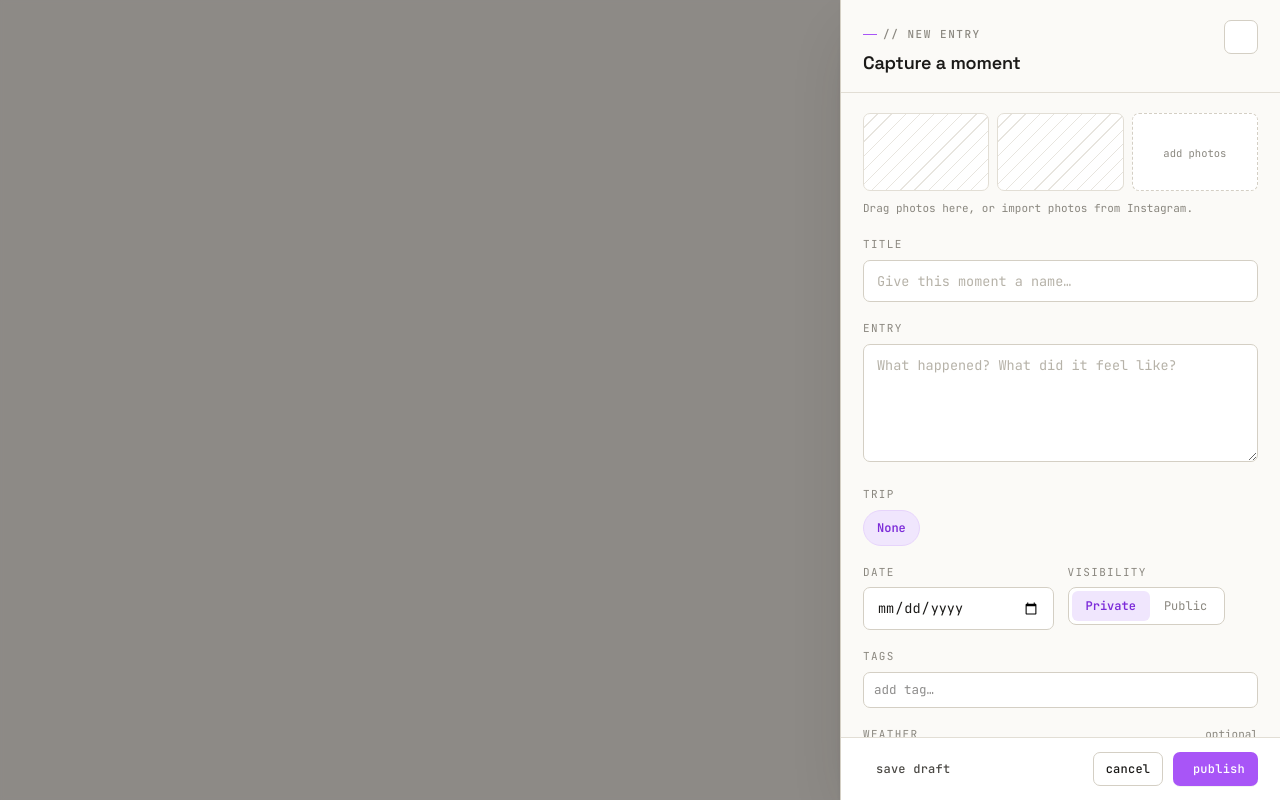
Test: AppNewEntry › removes a tag when its remove button is clicked
Type "iceland" into the field with placeholder "add tag…" at point(1060, 690), box [874, 681, 1247, 700]
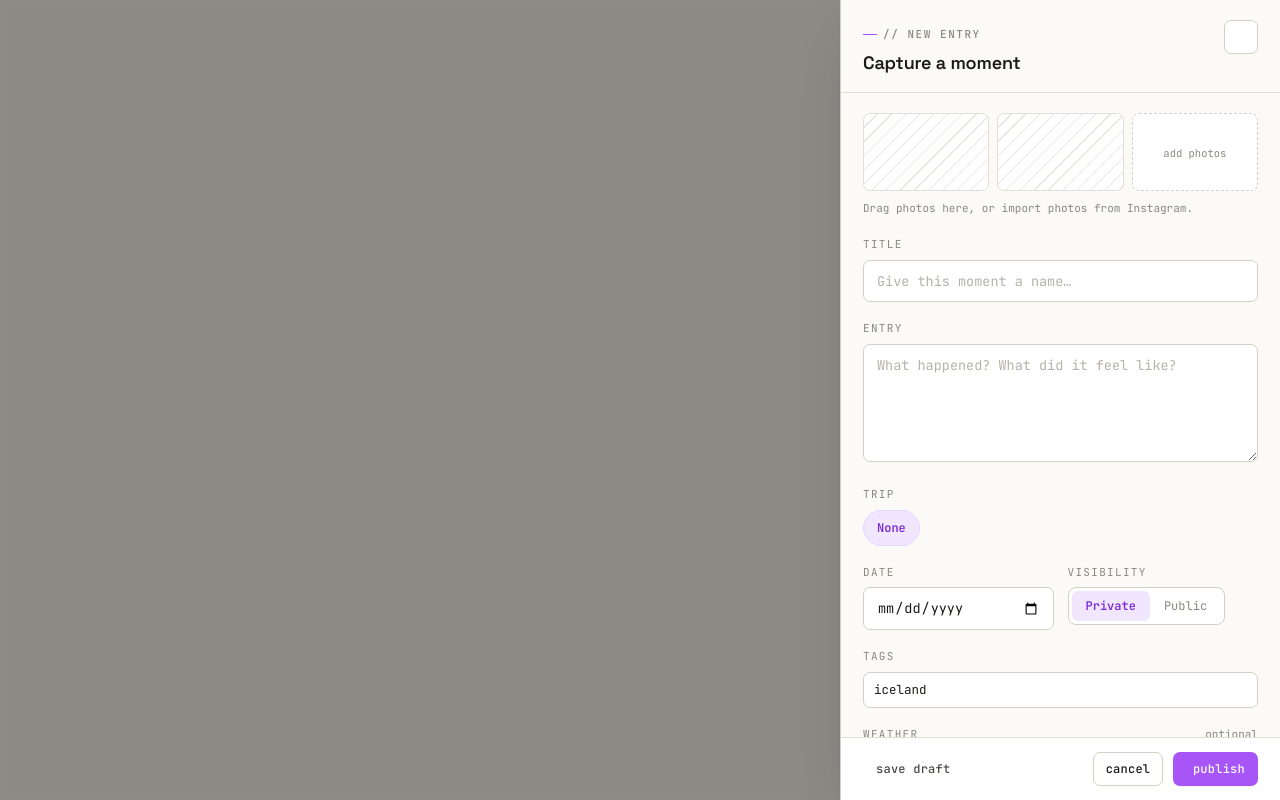
Press Enter in the 2nd field, box [874, 681, 1247, 700]
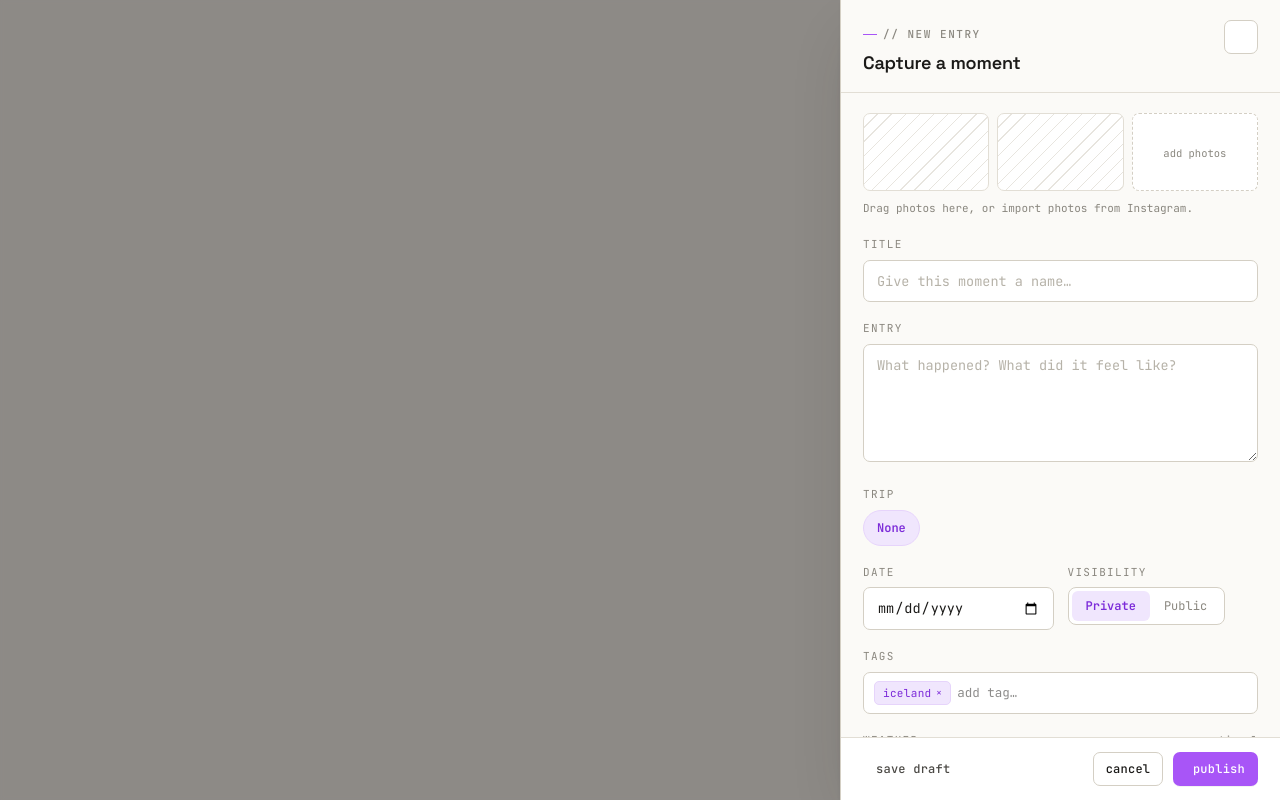
Click the button with class "tag-x" at point(939, 693), box [936, 686, 942, 700]
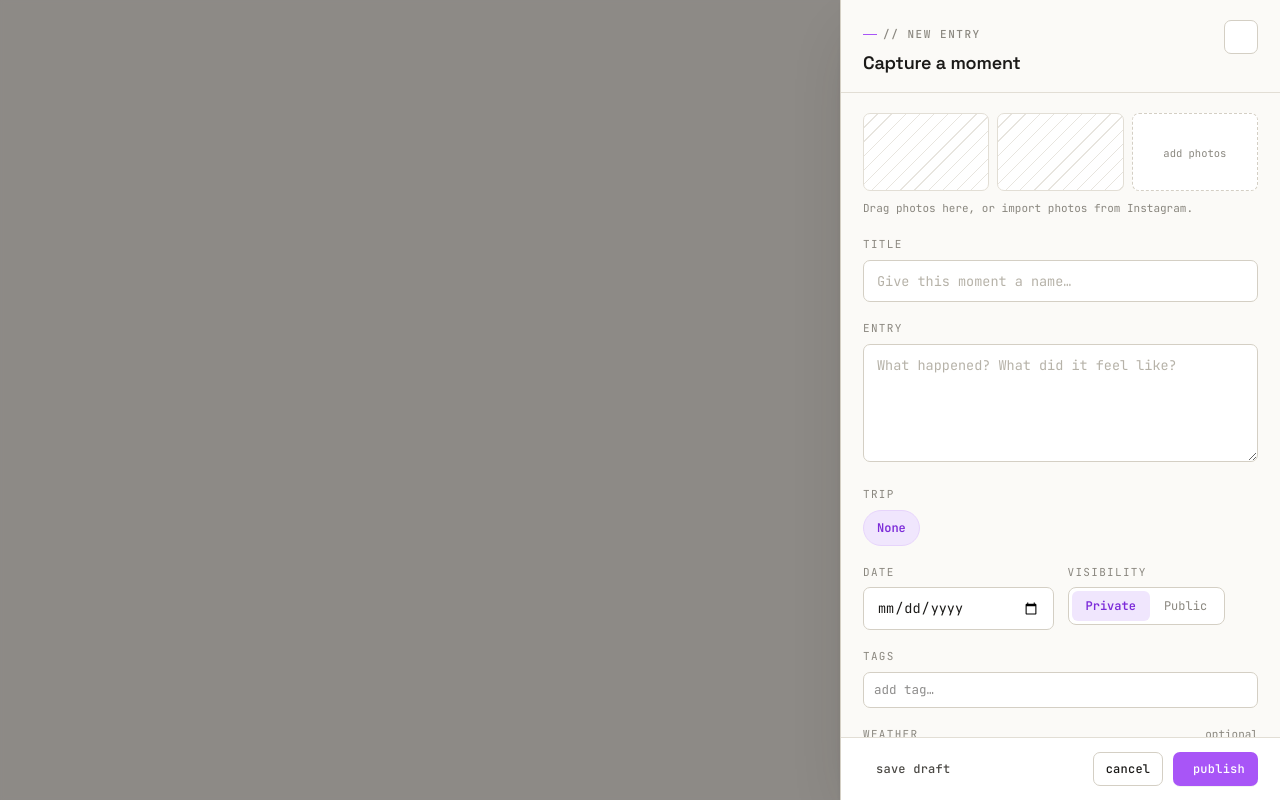
Now the element with class "tags-input" no longer shows "iceland"
